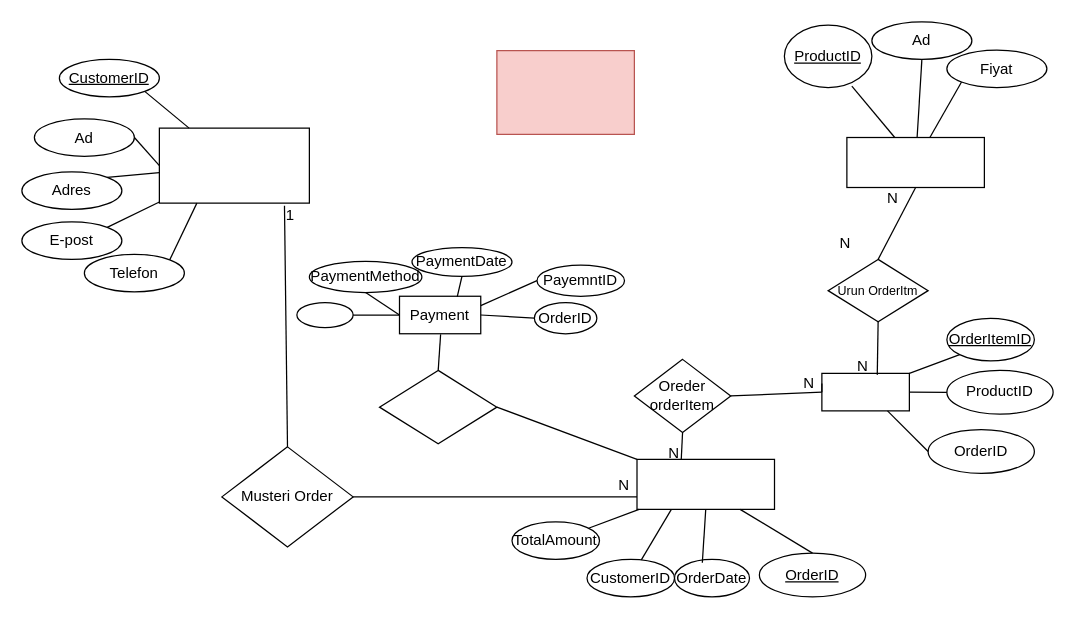
Image size: 1075x629. Some labels were removed from this diagram. Each missing label, with the box of its shape:
Amount: (296, 301, 353, 328)
Musteri: (158, 127, 309, 203)
Order: (636, 458, 774, 509)
OrderItem: (821, 372, 909, 411)
Payment Order: (378, 369, 497, 444)
Soru3: (496, 49, 634, 134)
Urun: (846, 136, 984, 188)
